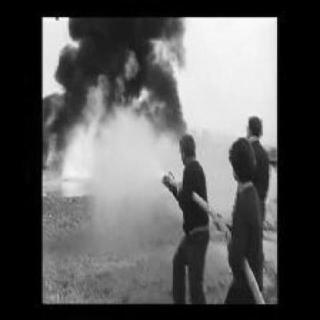Fire: (46, 48, 182, 196)
Smoke: (48, 15, 194, 111)
